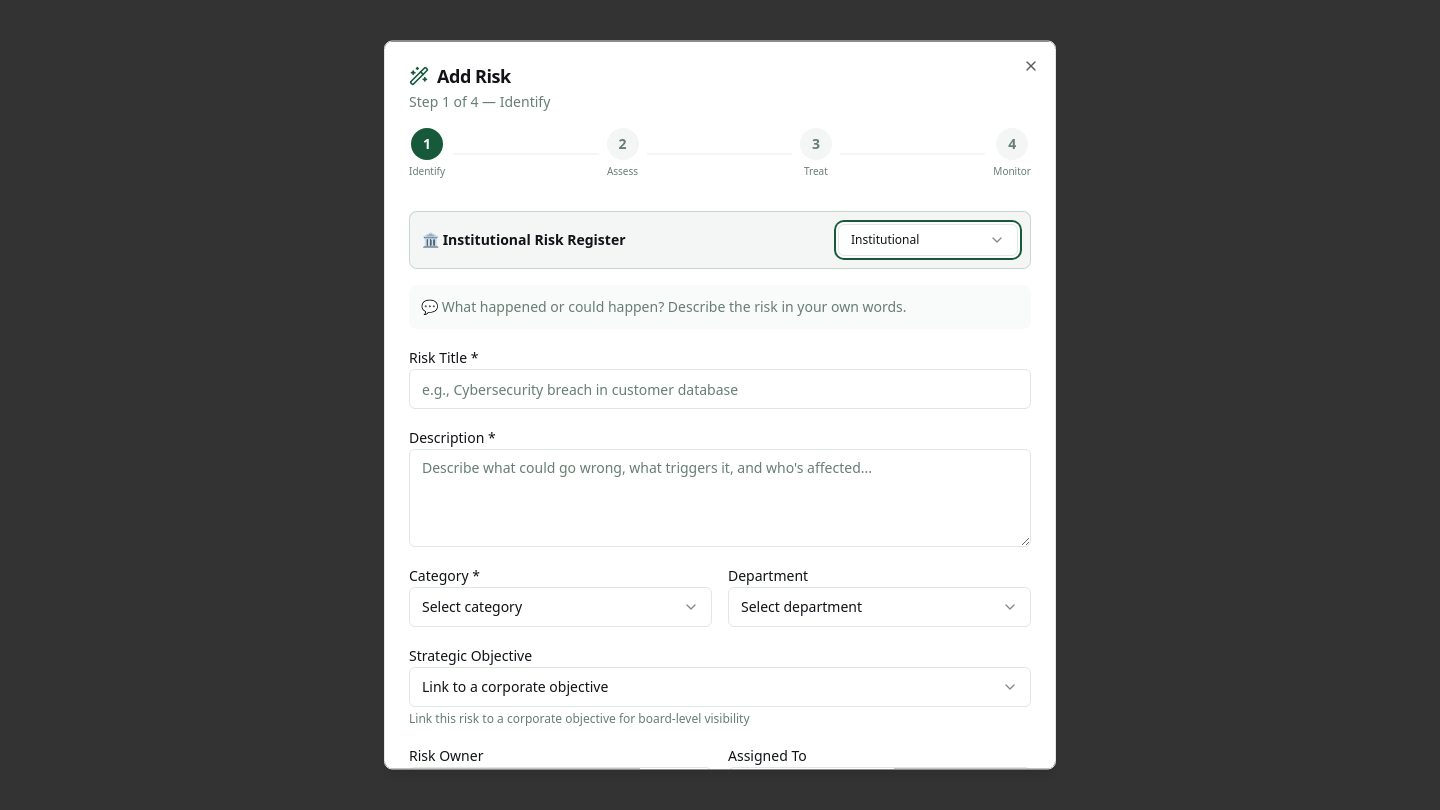
Test: RiskWizardDialog (add-risk wizard) › blocks step 2 -> 3 until an inherent likelihood and impact are picked, then computes the score
The image size is (1440, 810).
Type "Delayed taxpayer onboarding queue" into the field with placeholder "e.g., Cybersecurity breach in customer database" at (720, 388), box x1=409 y1=368 x2=1031 y2=408
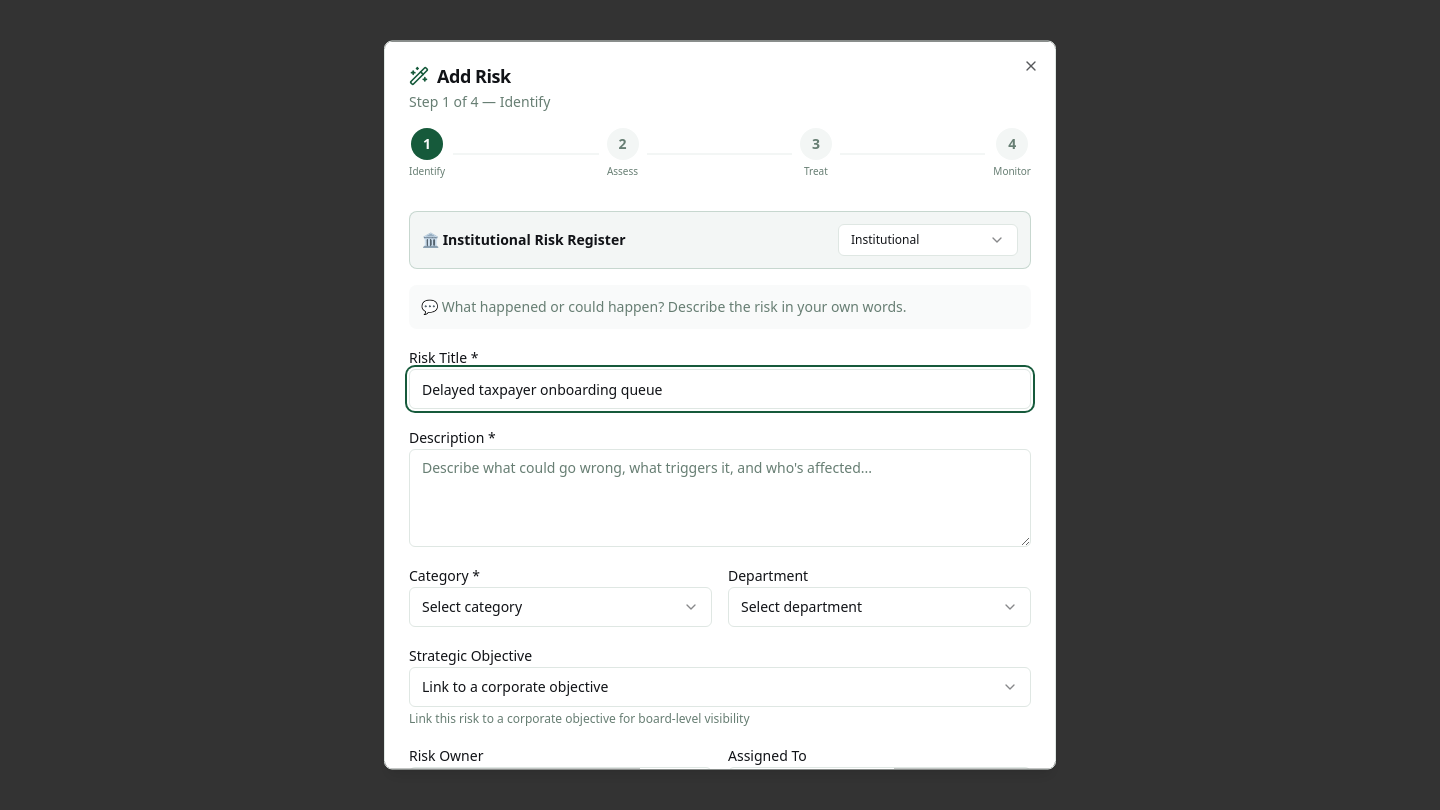
Type "Backlog of pending taxpayer enrolment records across the branch." into the text box with placeholder "Describe what could go wrong" at (720, 498), box x1=409 y1=448 x2=1031 y2=546
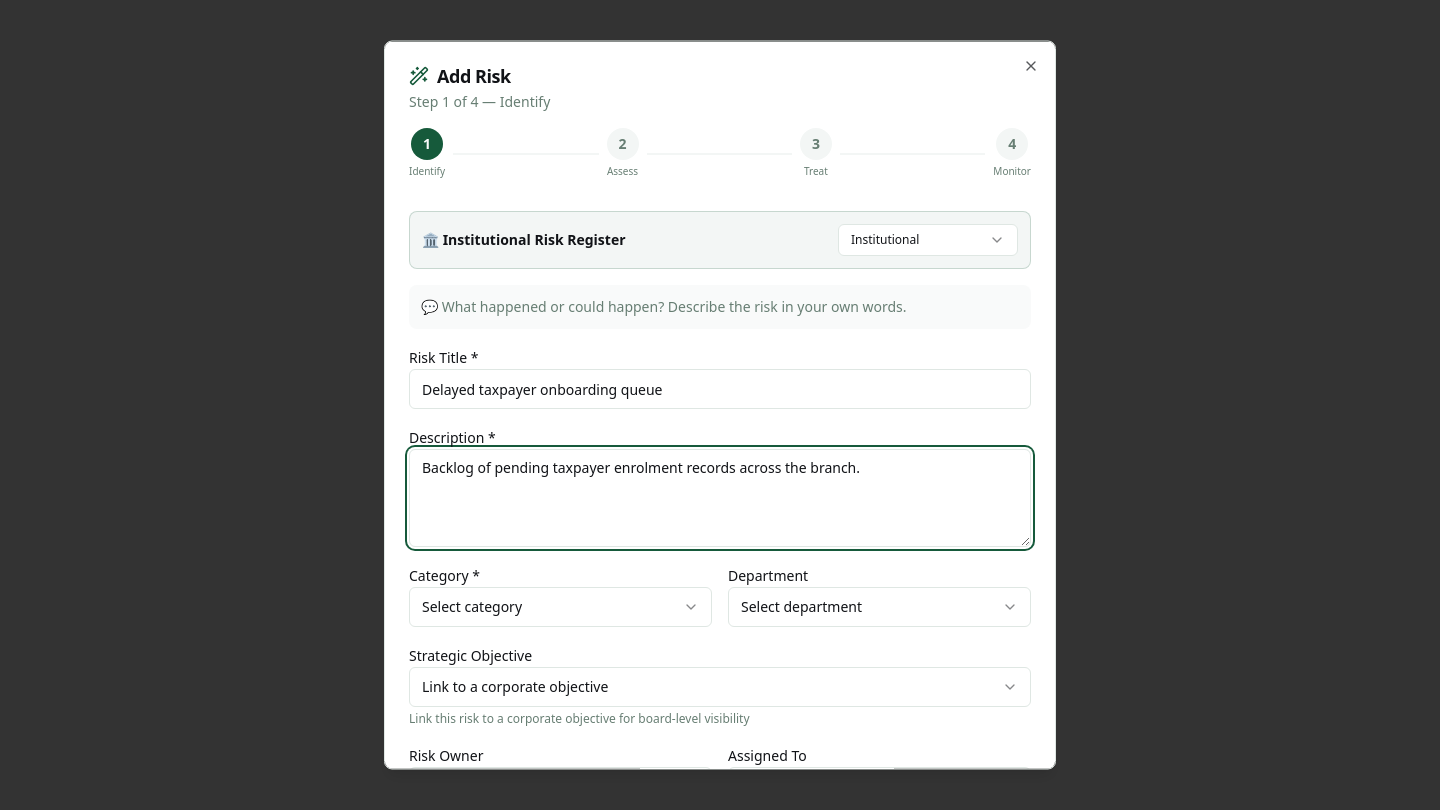
Click the dropdown labelled "Select category" at (472, 606), box x1=409 y1=586 x2=712 y2=626
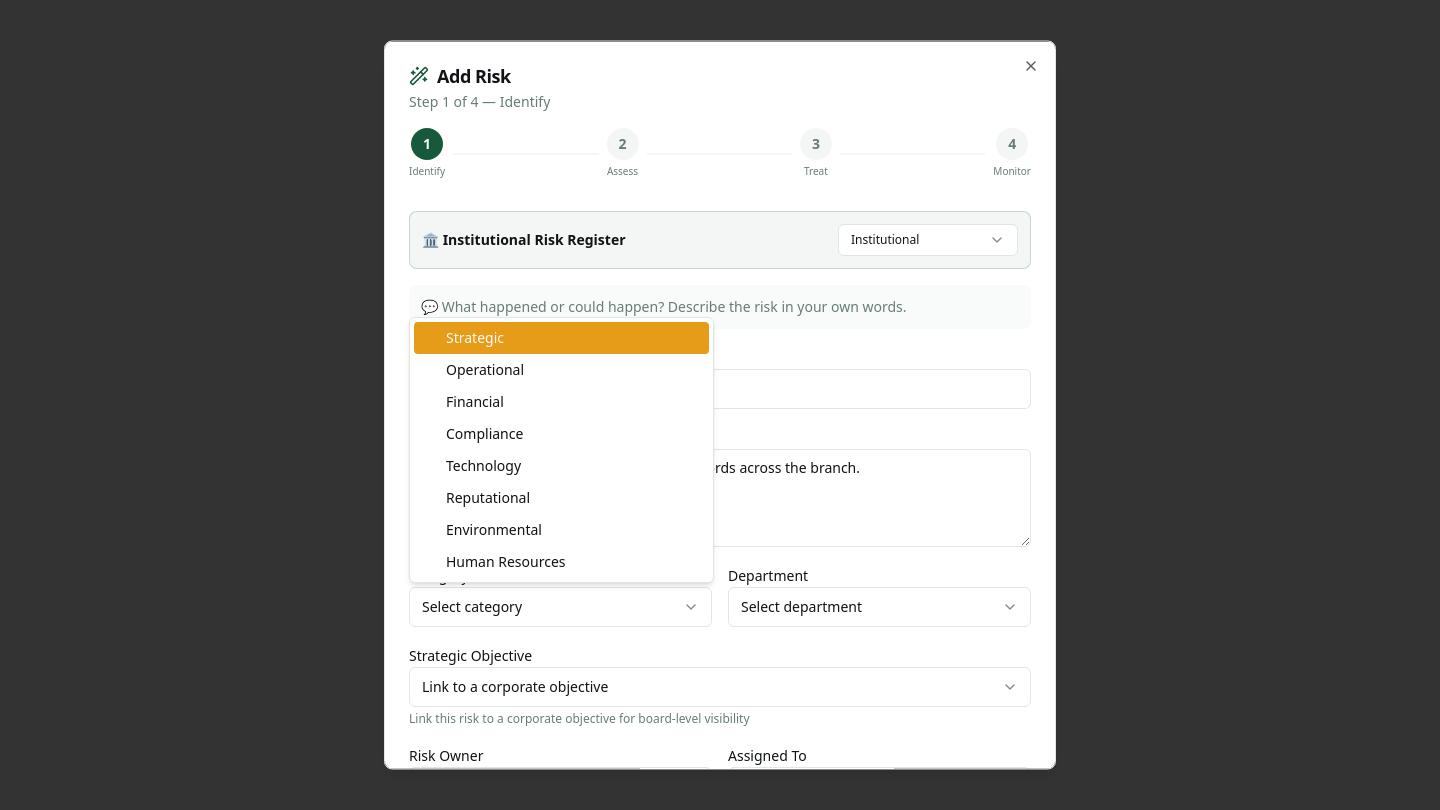
Click the option "Technology" at (484, 466), box x1=446 y1=456 x2=521 y2=475
(page scrolled)
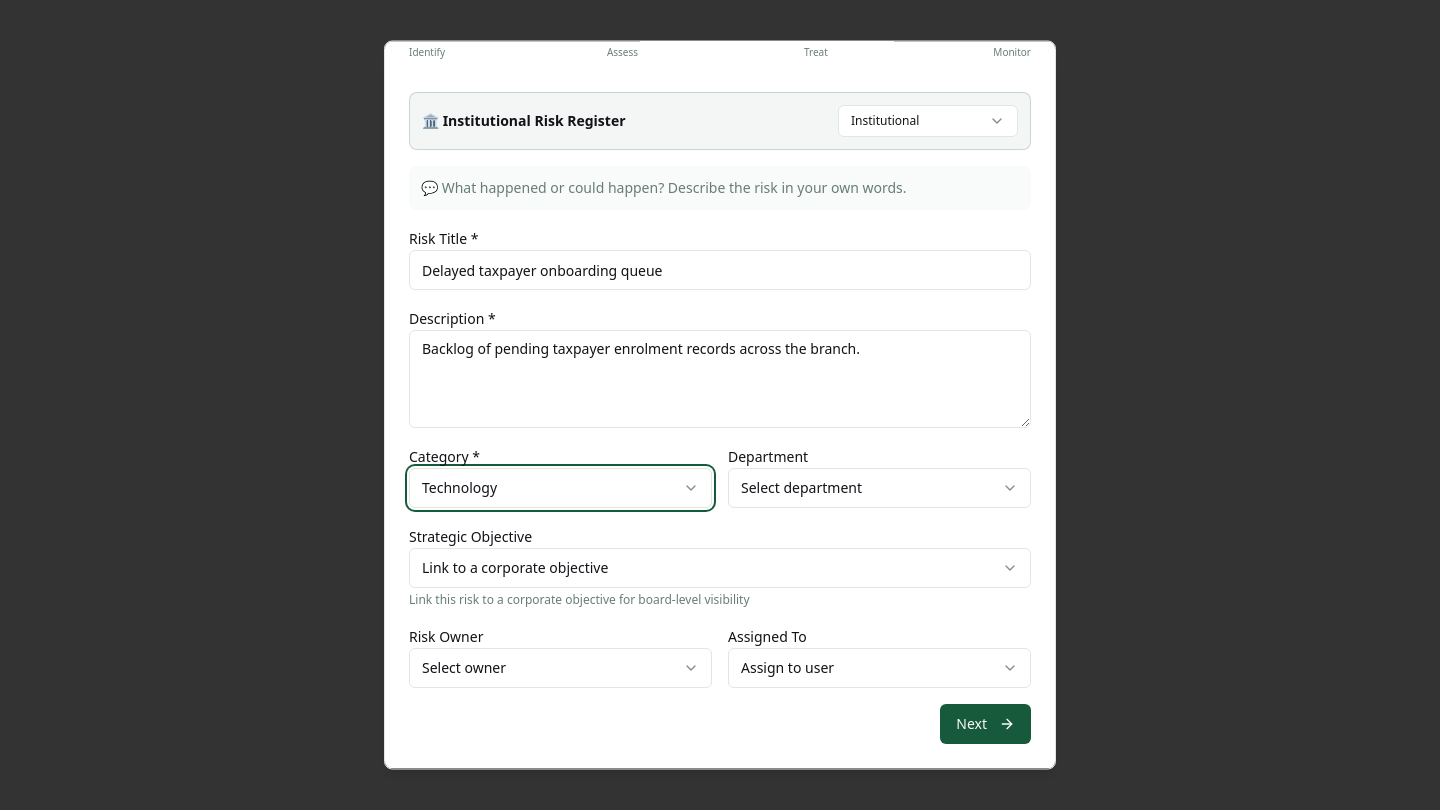
Click the button "Next" at (986, 724), box x1=940 y1=704 x2=1031 y2=744
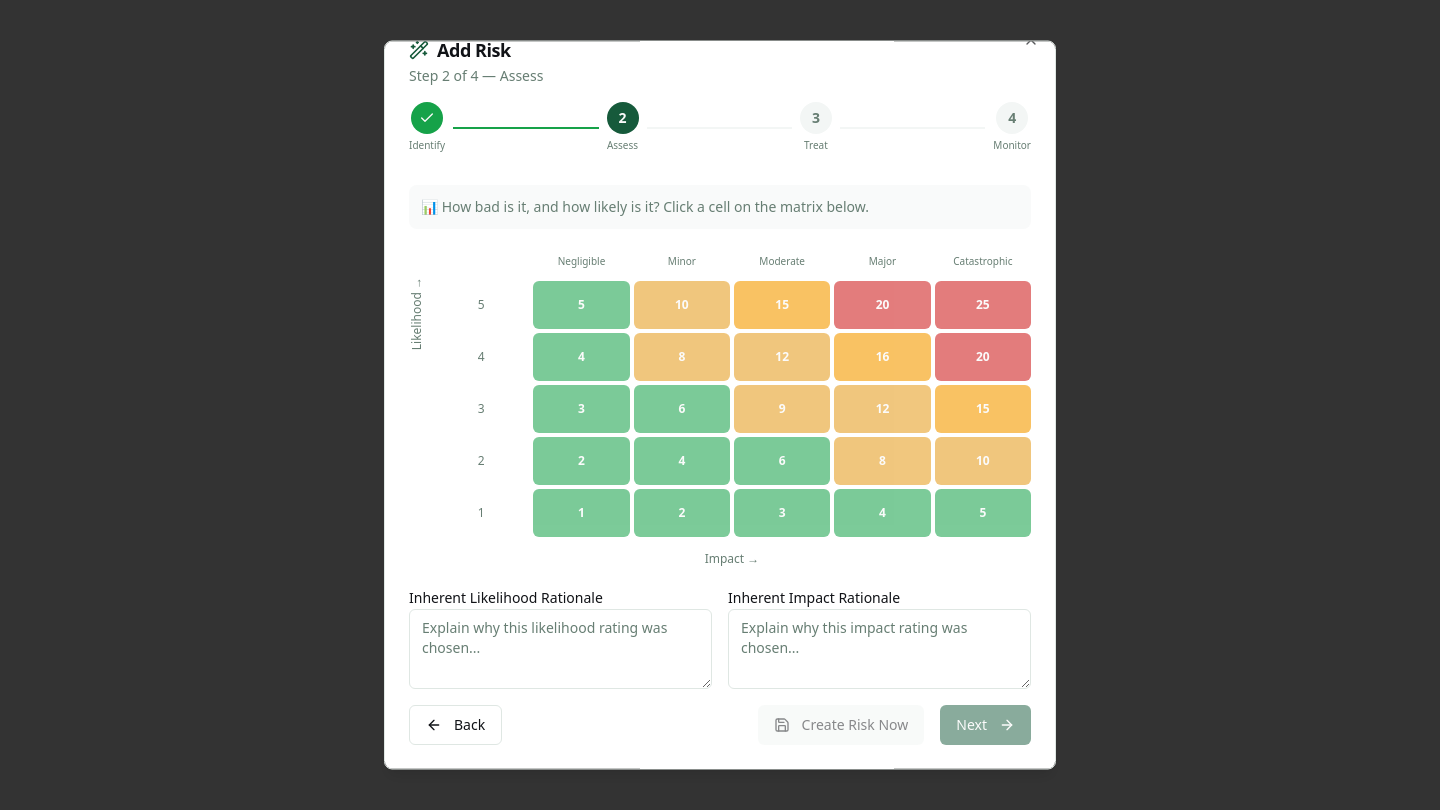
Now the text "Step 2 of 4 — Assess" is shown, box x1=409 y1=66 x2=543 y2=84
Now the button "Next" is disabled, box x1=940 y1=704 x2=1031 y2=744
Click the button "25" at (983, 304), box x1=935 y1=280 x2=1031 y2=328
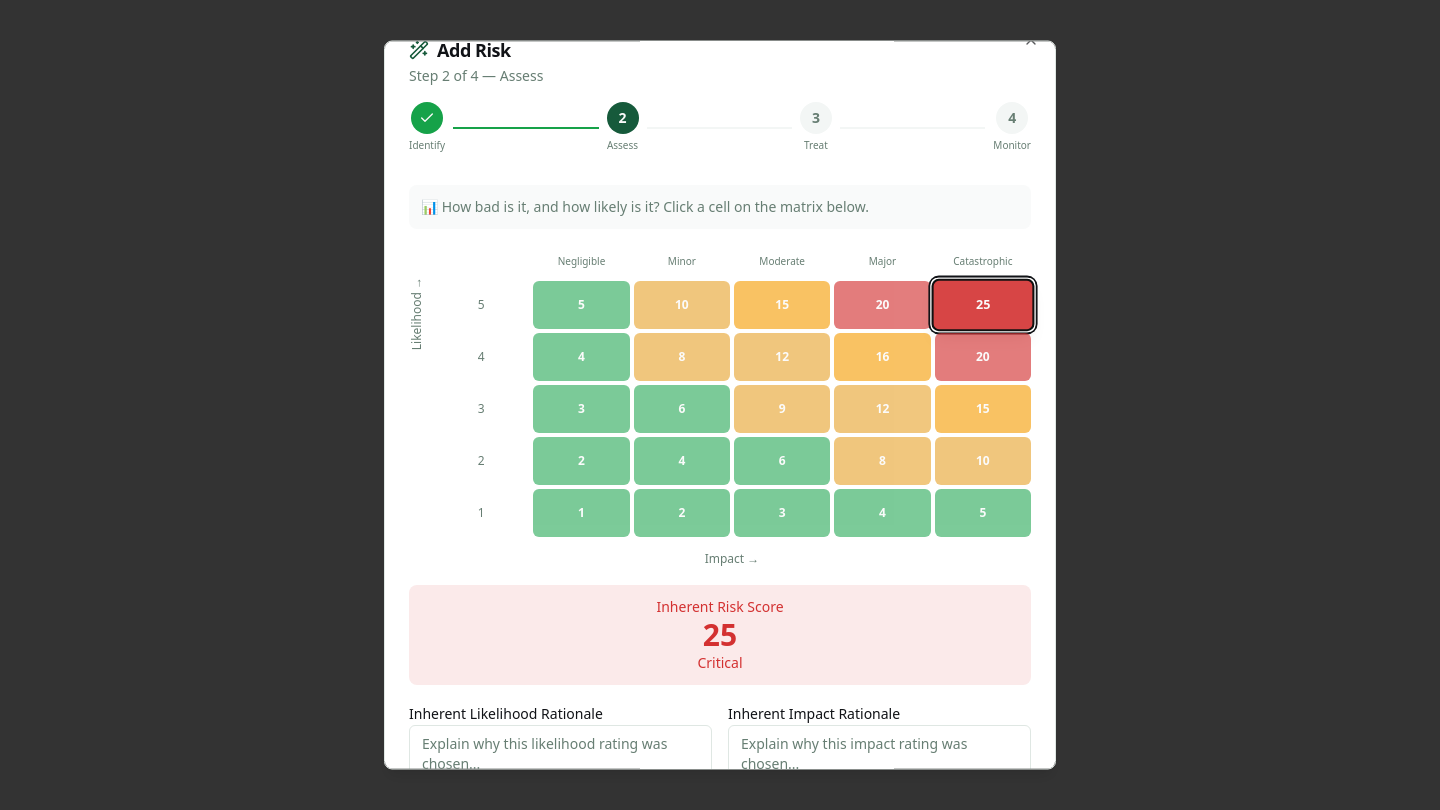
Now the text "Critical" is shown, box x1=697 y1=652 x2=742 y2=672
